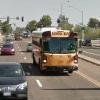Bus: (25, 26, 80, 73)
